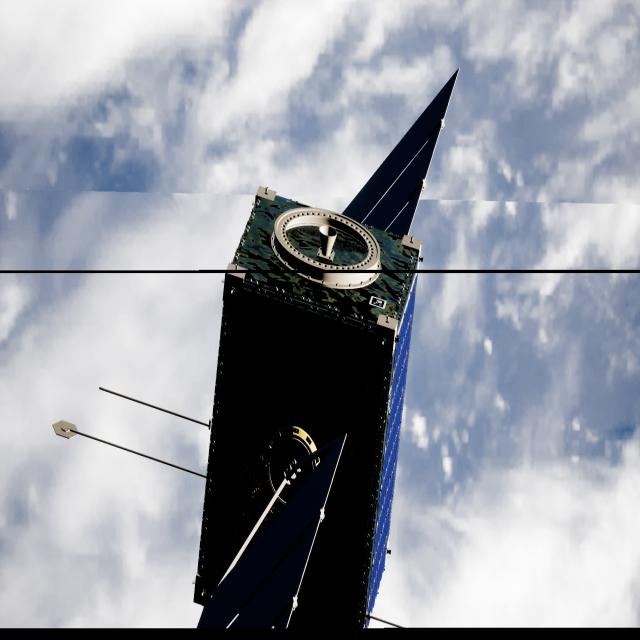medium_debris: (193, 79, 454, 640)
